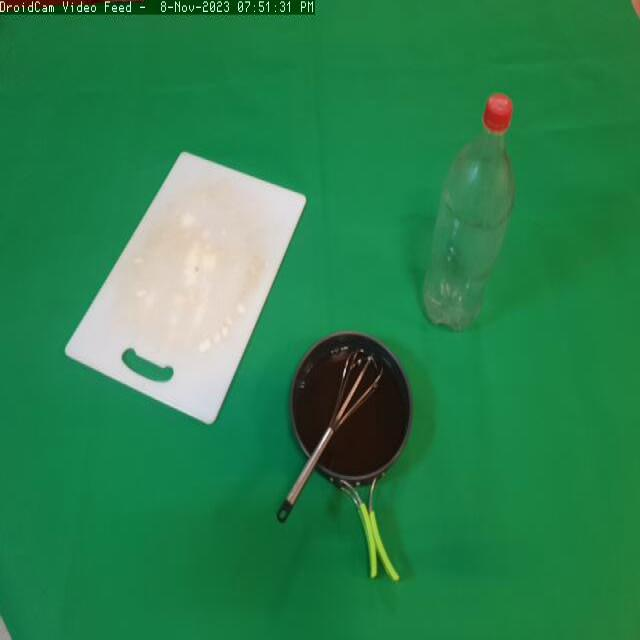bottle: (417, 82, 521, 350)
cutting board: (59, 130, 319, 436)
fullpan: (292, 322, 421, 584)
whisk: (307, 344, 383, 472)
